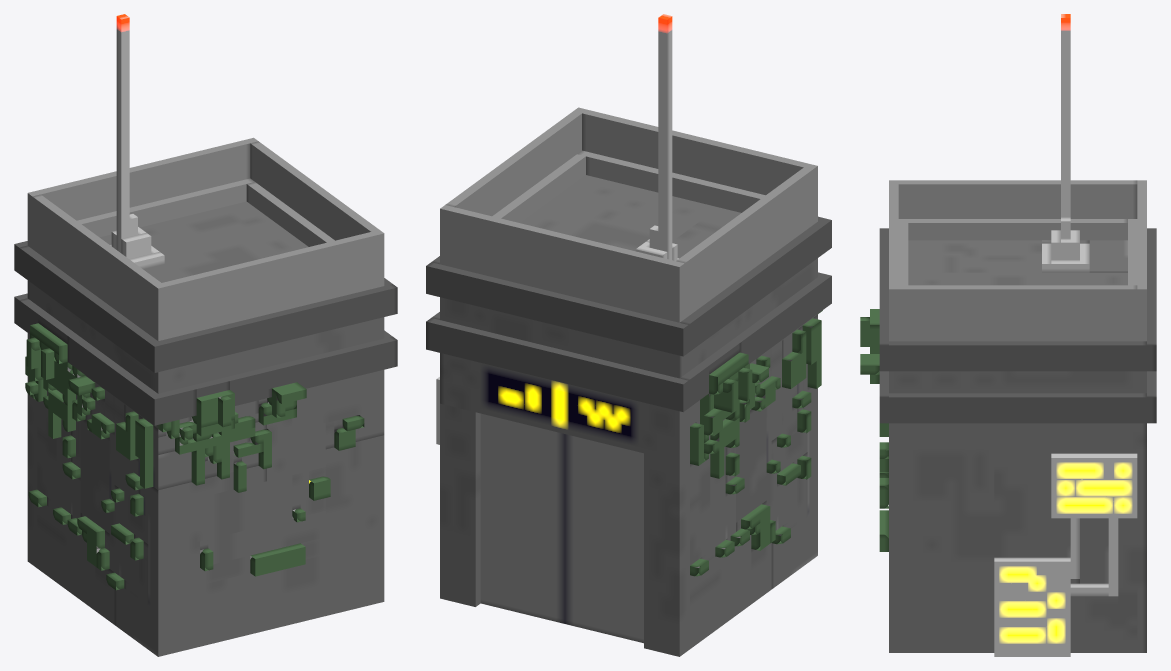
The model's file is pomieszczenie_winda.dae.
3 renders of one model, left to right at view 1: azimuth 30°, elevation 25°; view 2: azimuth 150°, elevation 25°; view 3: azimuth 270°, elevation 25°, orthographic. The views are drawn at different scales.
Visible parts, largest first — view 1: Content; view 2: Content; view 3: Content.
Part boxes in pixels (x1,y1,x2,y2): Content: (14,14,397,656); Content: (426,14,831,656); Content: (860,14,1156,656).
Bounding box in the file's own units: 31 × 64 × 31.
1 material, 1 textured.
